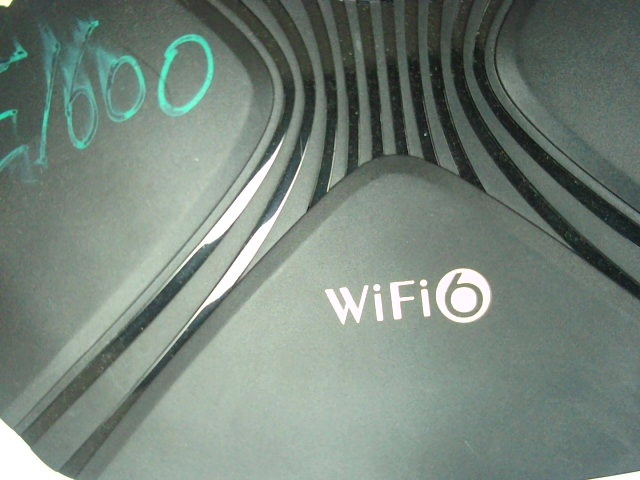AK_ZTEWIFI6Black: (313, 262, 510, 331)
